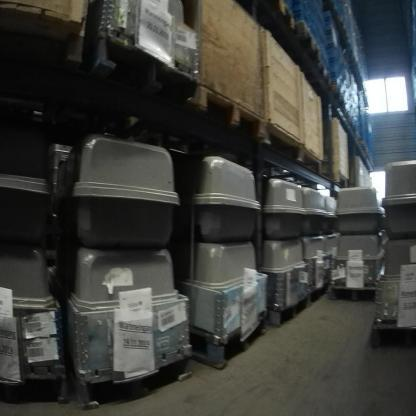pallets: (188, 71, 354, 193)
